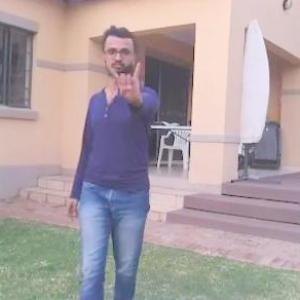takeoff-hand: (103, 54, 147, 107)
